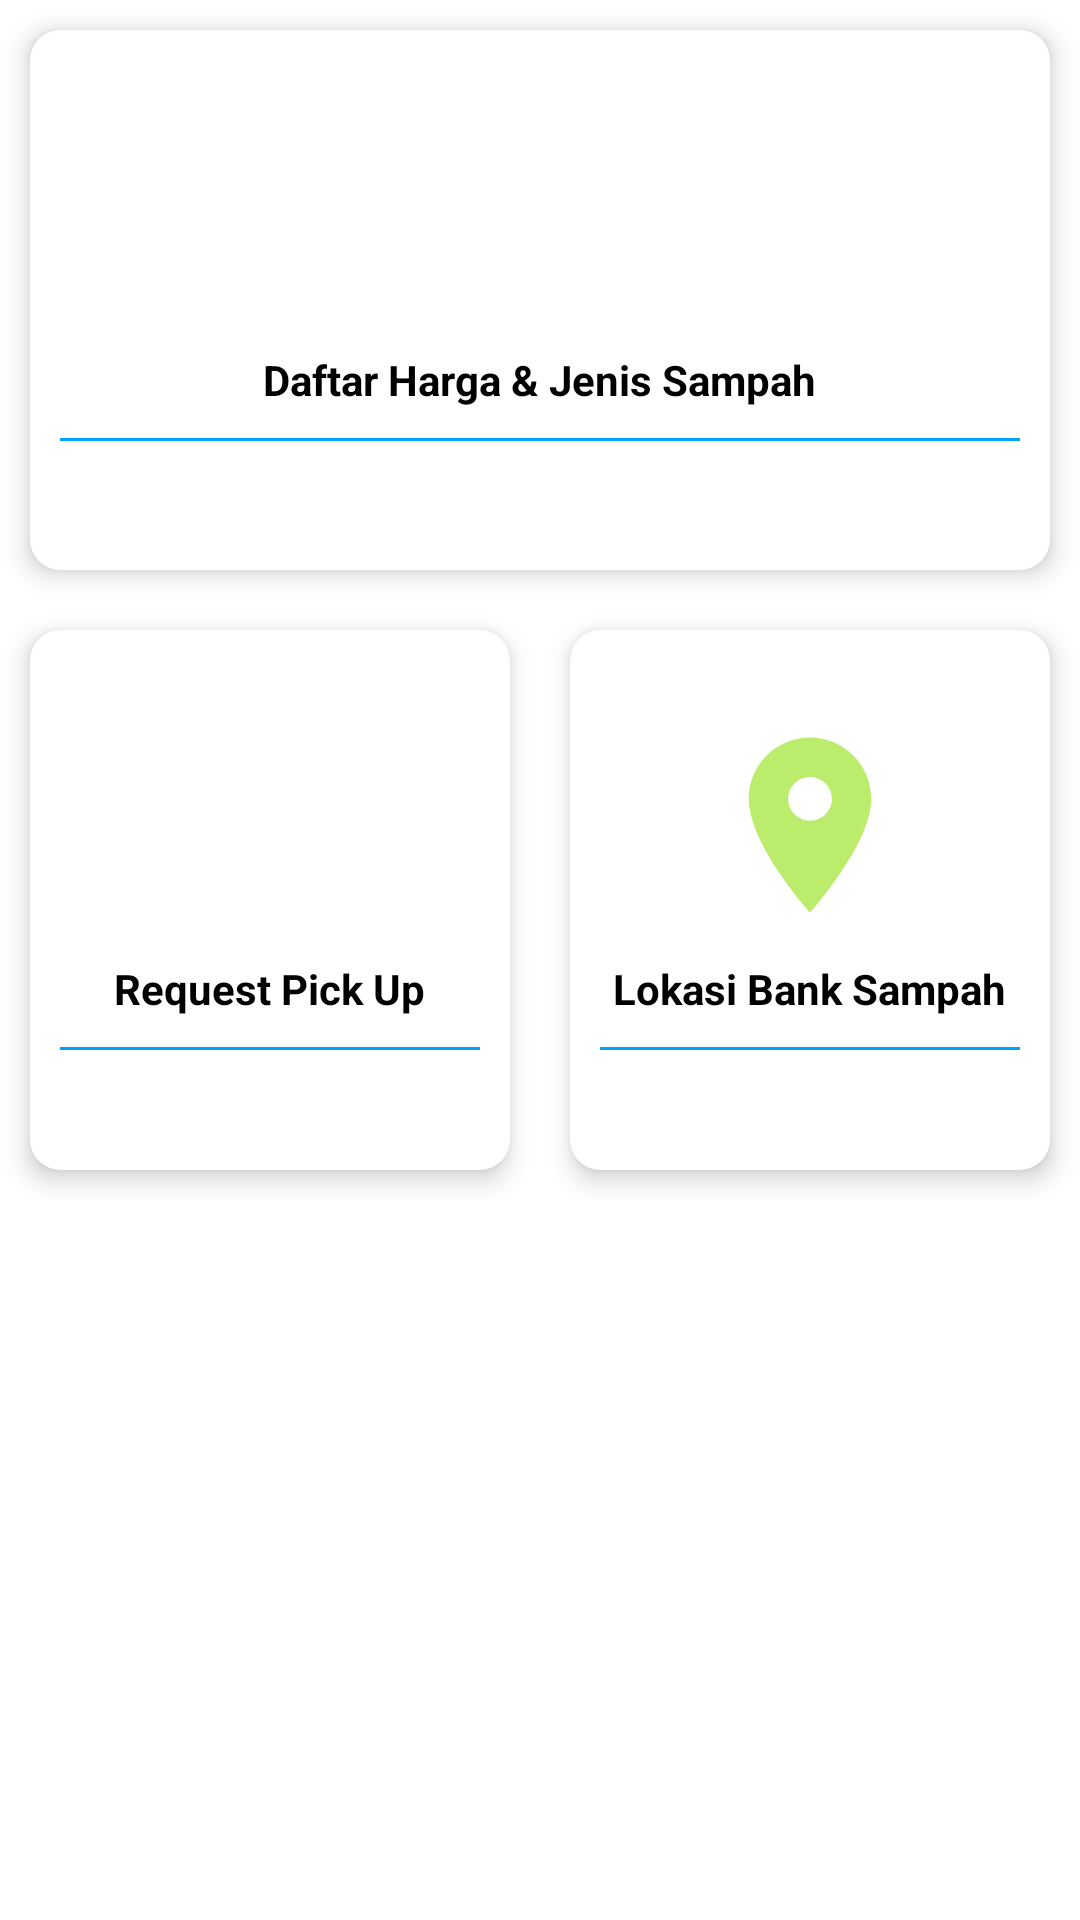

Icon click points for this 1080x1920 phone screenshot, format (x,y):
location on: (810,825)
